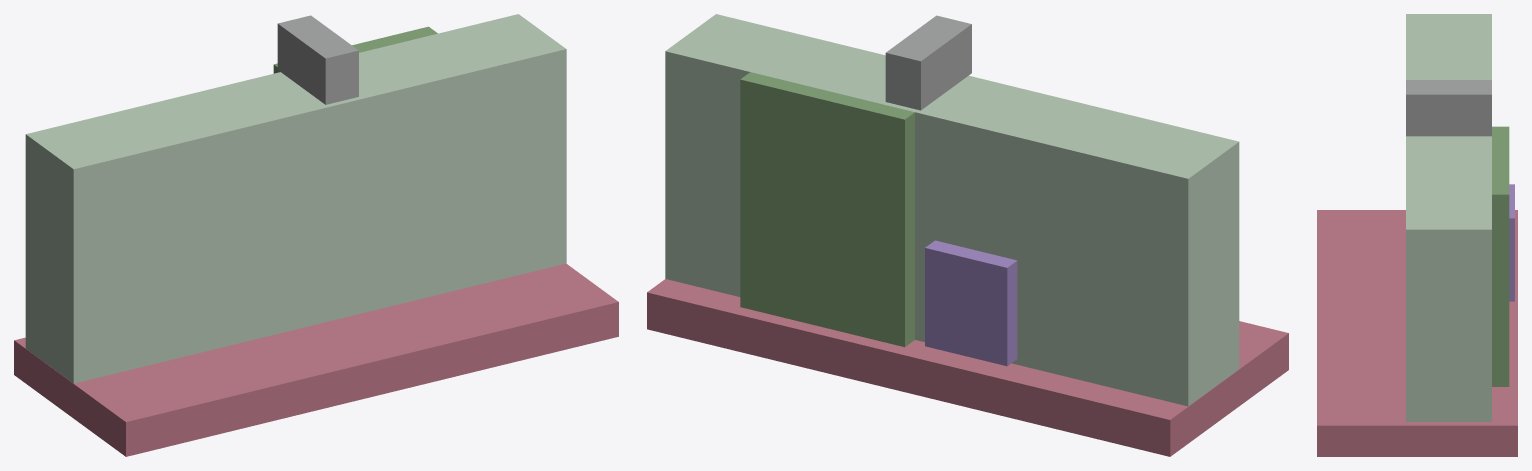
Rendered from 199500_pred.glb.
3 renders of one model, left to right at view 1: azimuth 30°, elevation 25°; view 2: azimuth 150°, elevation 25°; view 3: azimuth 270°, elevation 25°, orthographic. The views are drawn at different scales.
Parts seen in each view (by area): view 1: world; view 2: world; view 3: world.
Boxes of the visible parts, x1=… form: world: x1=14, y1=14, x2=618, y2=456; world: x1=647, y1=14, x2=1288, y2=456; world: x1=1317, y1=14, x2=1517, y2=456.
Bounding box in the file's own units: 8.95 × 5.2 × 3.5.
